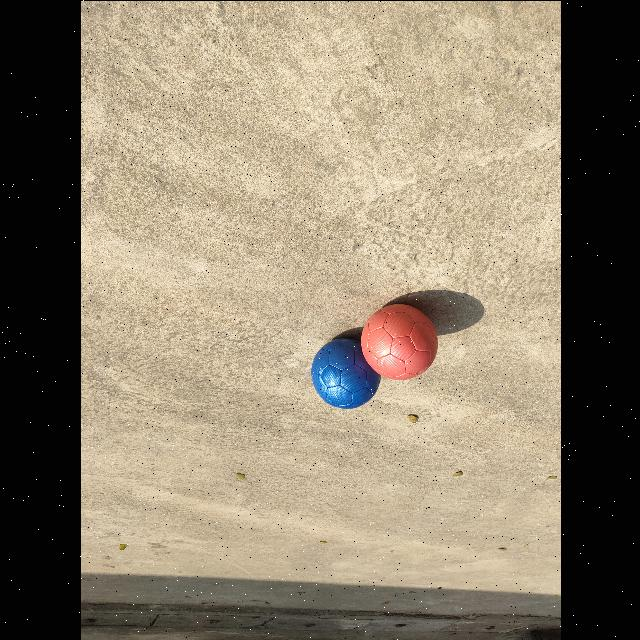B: (310, 337, 380, 408)
R: (360, 303, 437, 379)
